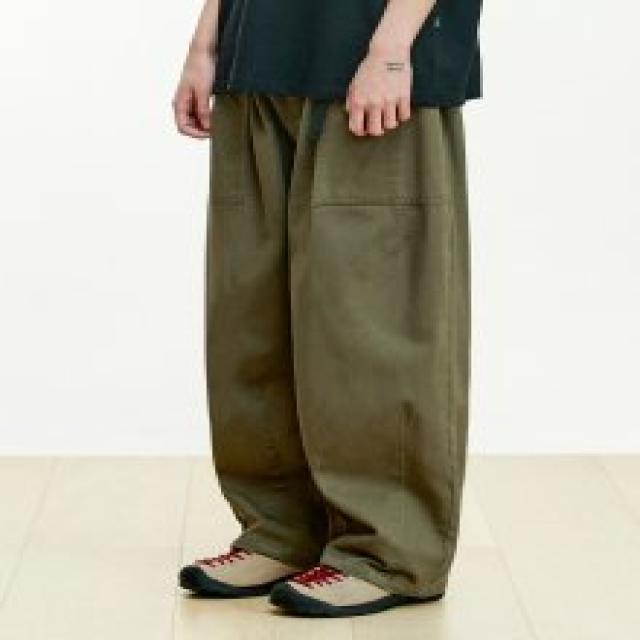long-pants: (204, 94, 473, 606)
